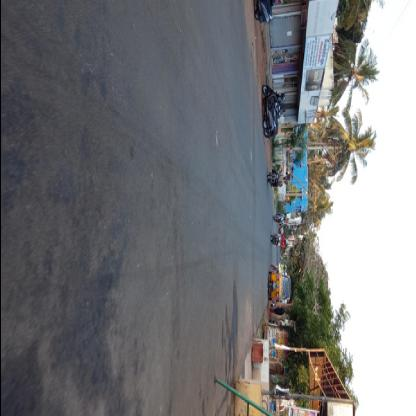speed-bumps: (245, 34, 260, 342)
